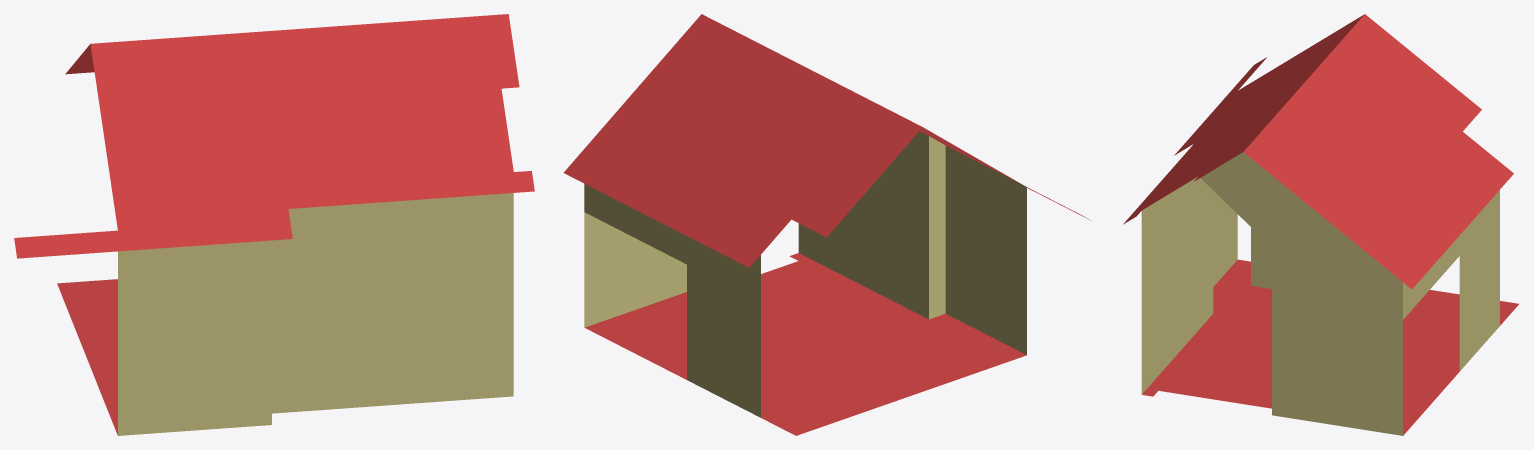
The picture shows the model from 3 angles, left to right: view 1: azimuth 30°, elevation 25°; view 2: azimuth 150°, elevation 25°; view 3: azimuth 270°, elevation 25°; orthographic projection. The views are drawn at different scales.
Bounding box in the file's own units: 26.16 × 19.86 × 14.66.
